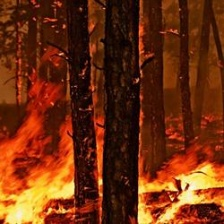fire: (1, 114, 224, 222)
